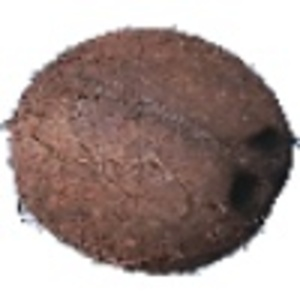coco: (1, 26, 300, 276)
